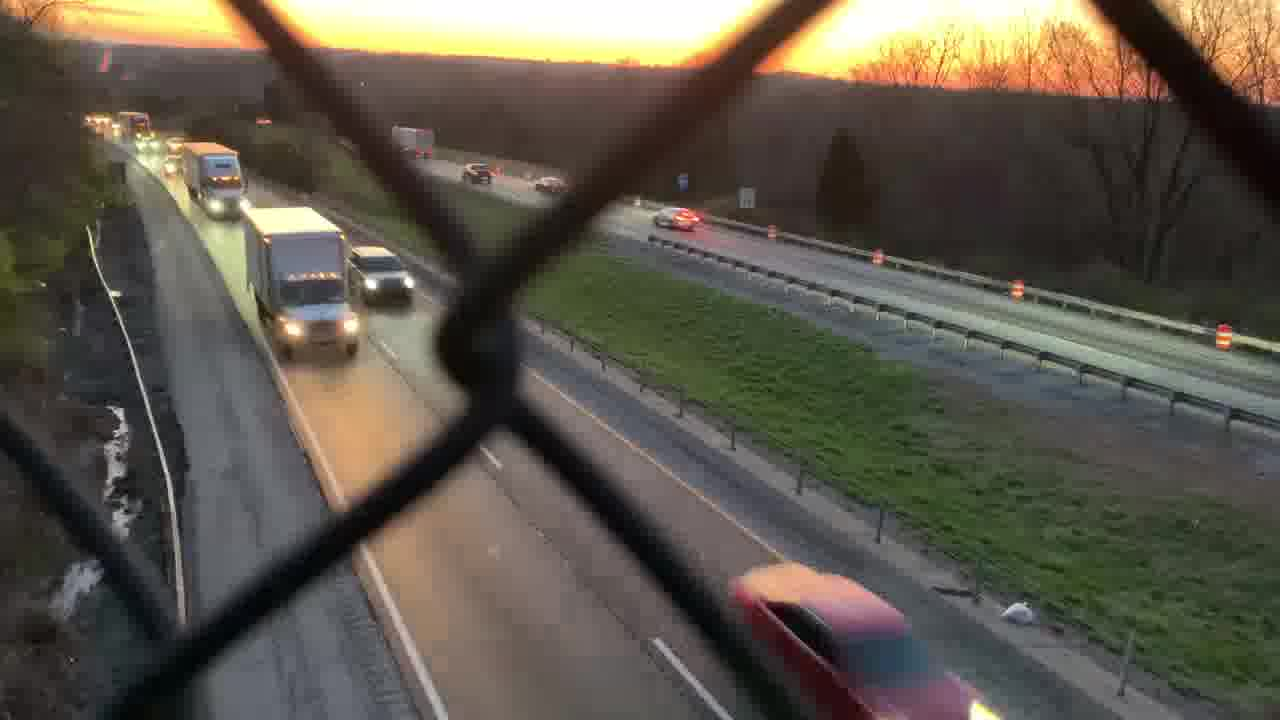heavyTruck: (247, 207, 362, 355), (181, 138, 249, 220), (386, 125, 441, 165)
smallCar: (729, 563, 1006, 720)
